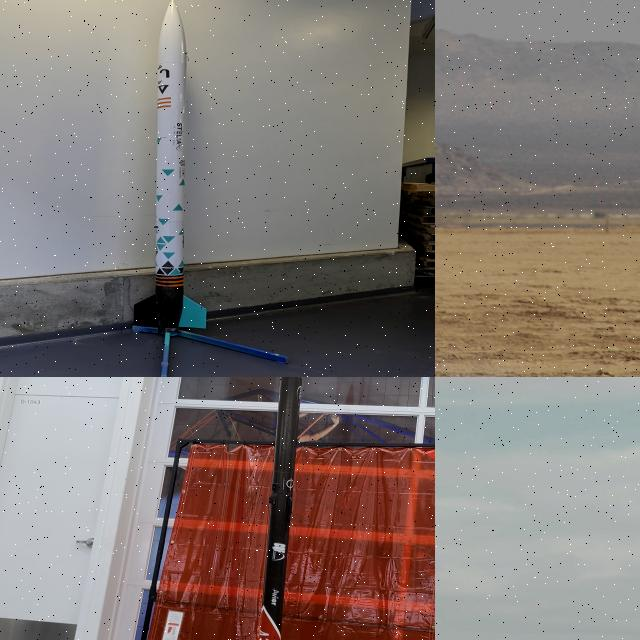Rocket: (134, 0, 207, 335), (260, 377, 303, 640)
